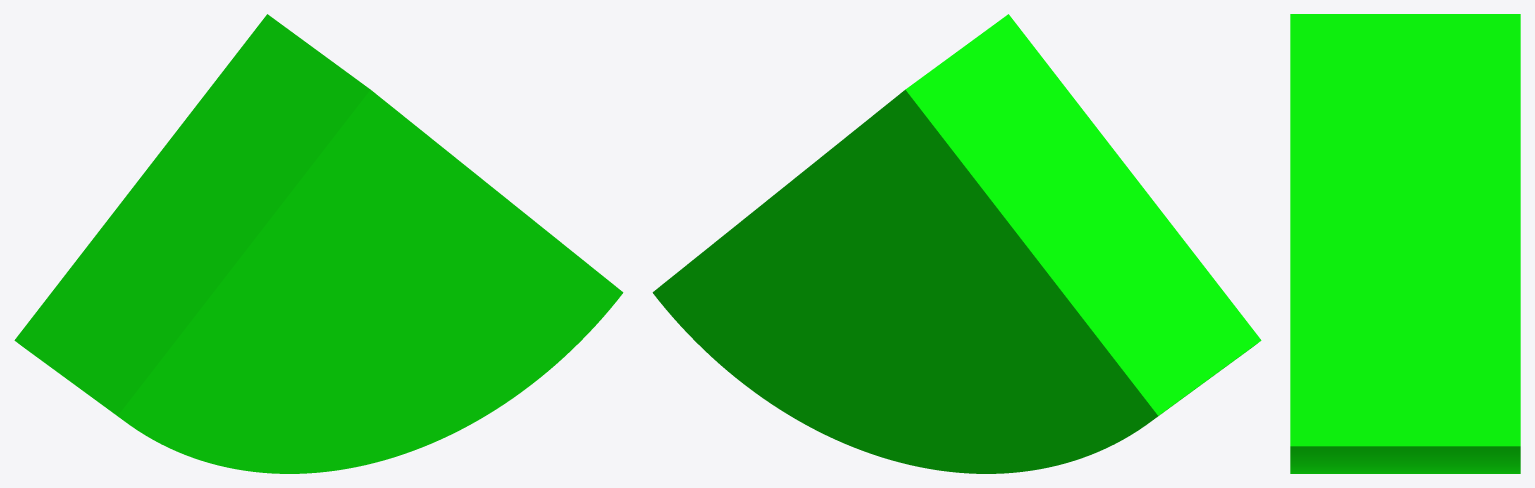
File: greenAttackRadius100.obj
The picture shows the model from 3 angles, left to right: view 1: azimuth 30°, elevation 25°; view 2: azimuth 150°, elevation 25°; view 3: azimuth 270°, elevation 25°; orthographic projection. The views are drawn at different scales.
Visible parts, largest first — view 1: ボディ1; view 2: ボディ1; view 3: ボディ1.
Boxes of the visible parts, left/top/right/bottom form: ボディ1: left=14, top=14, right=623, bottom=473; ボディ1: left=652, top=14, right=1261, bottom=473; ボディ1: left=1290, top=14, right=1520, bottom=473.
Bounding box in the file's own units: 141 × 99.99 × 50.
